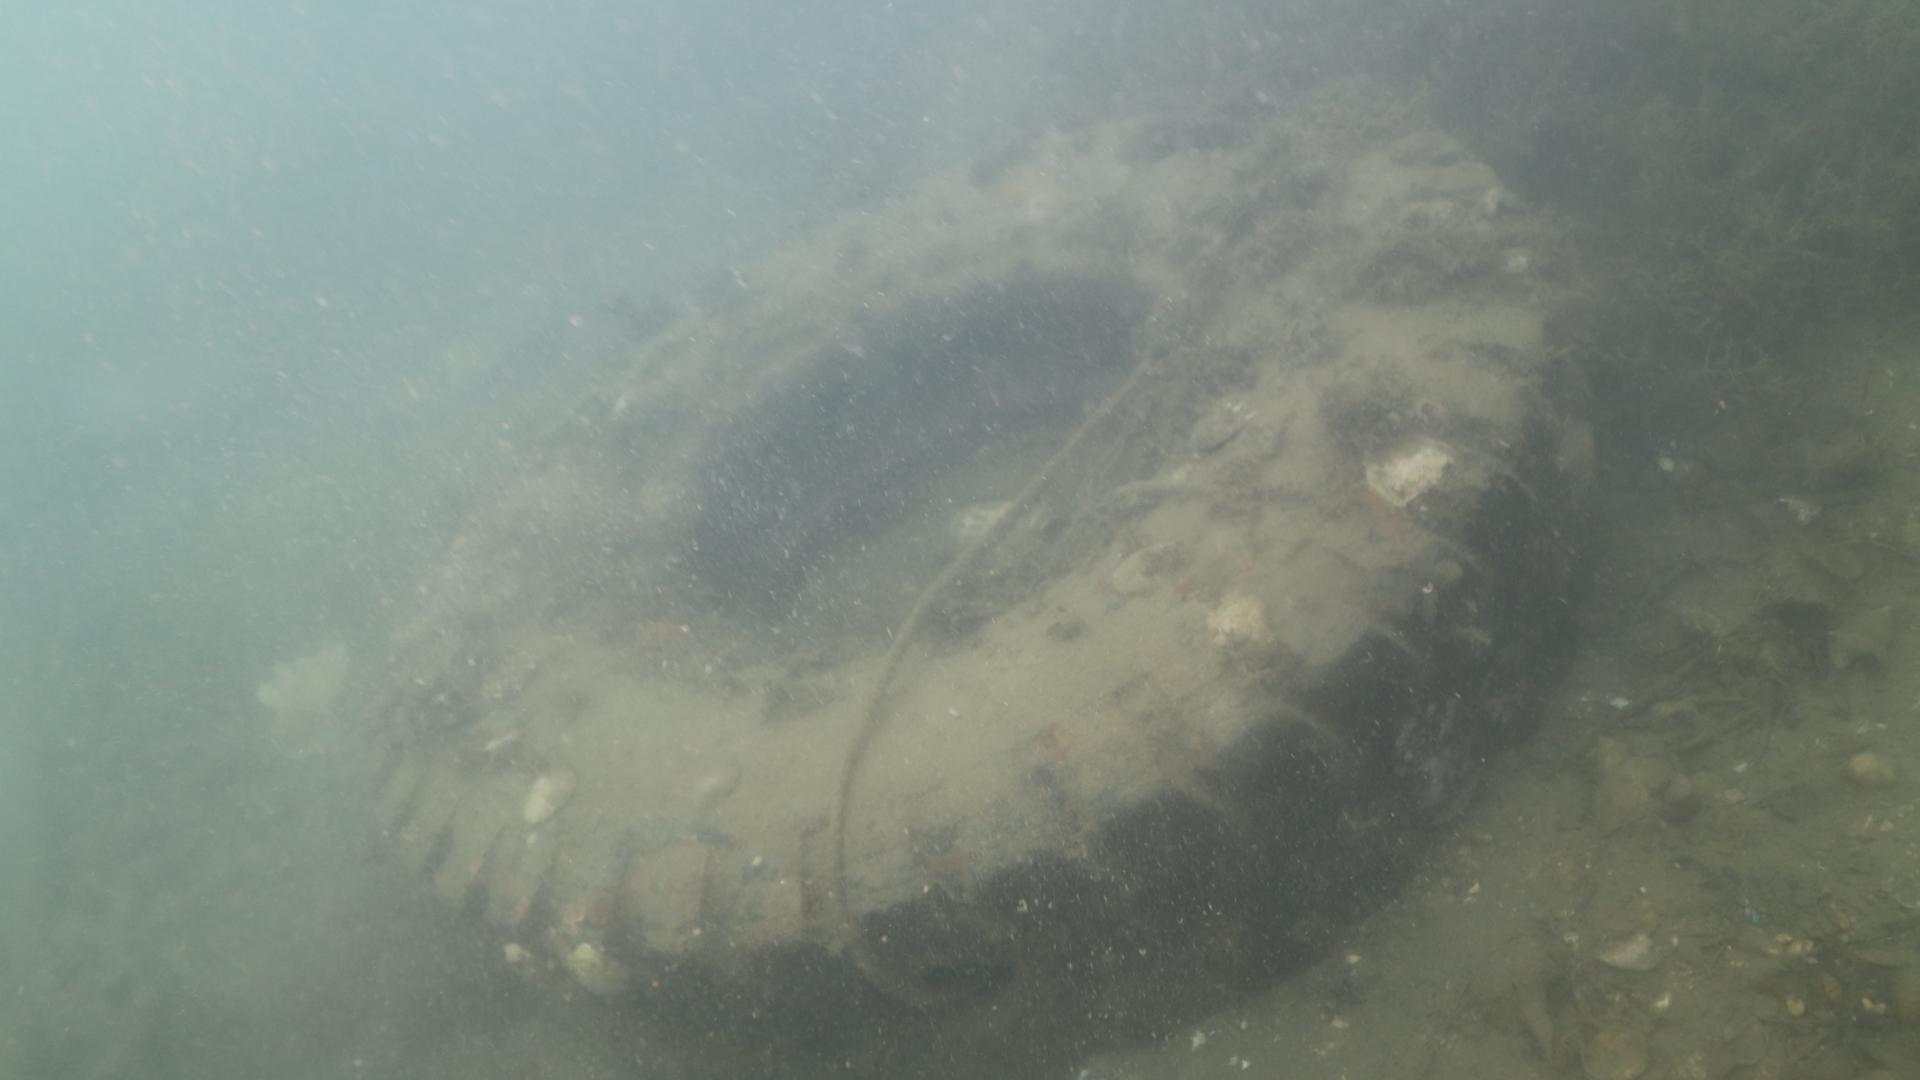rope: (824, 339, 1166, 1021)
tire: (330, 70, 1604, 1042)
